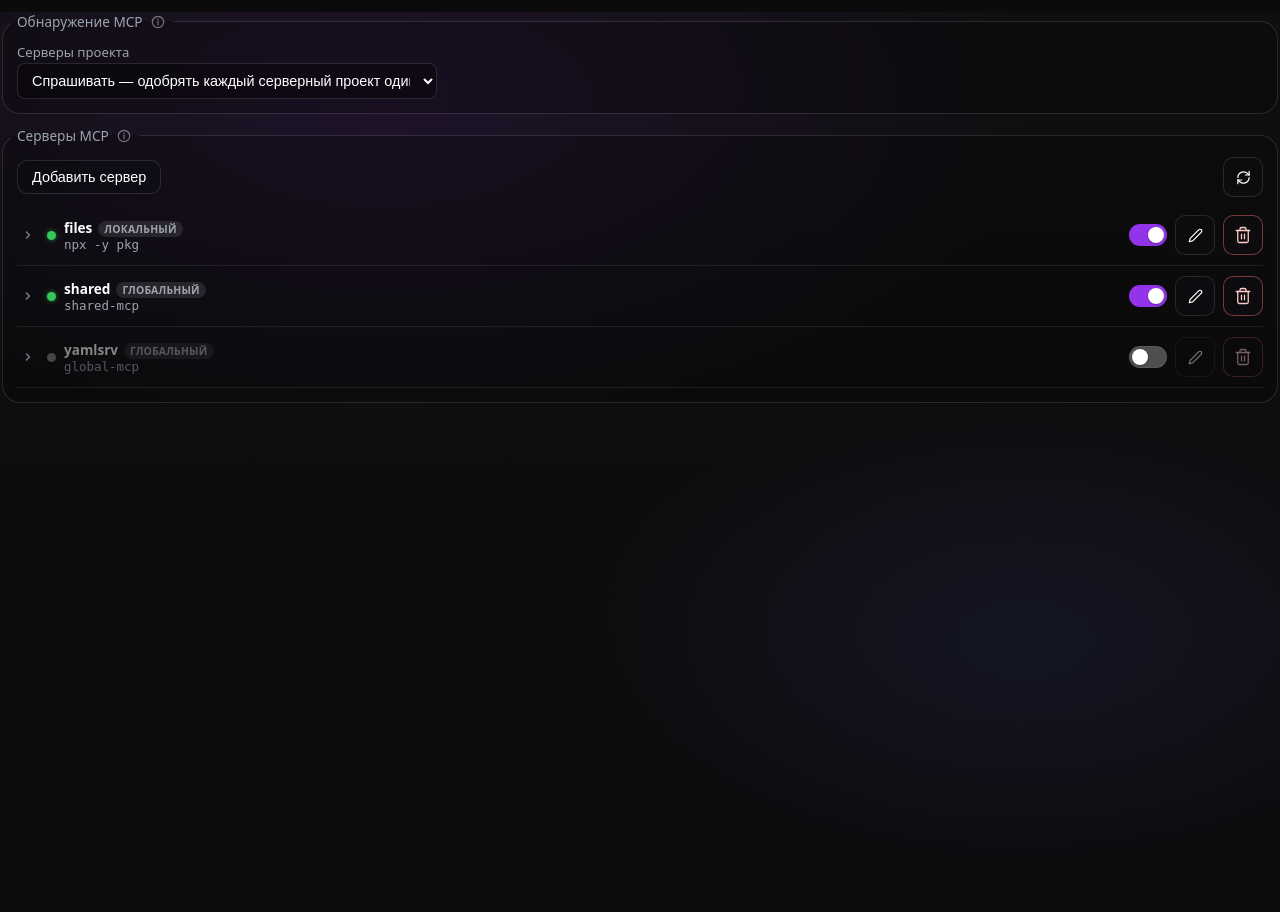
Test: renders MCP controls and validation errors in Russian
The width and height of the screenshot is (1280, 912).
Expected: the list with test id "mcp-list" is shown, [17,205,1263,388]
Expected: the text "Серверы MCP" is shown, [17,126,133,145]
Click the button with test id "mcp-add-server". click: (89, 177)
box: [17,160,161,194]
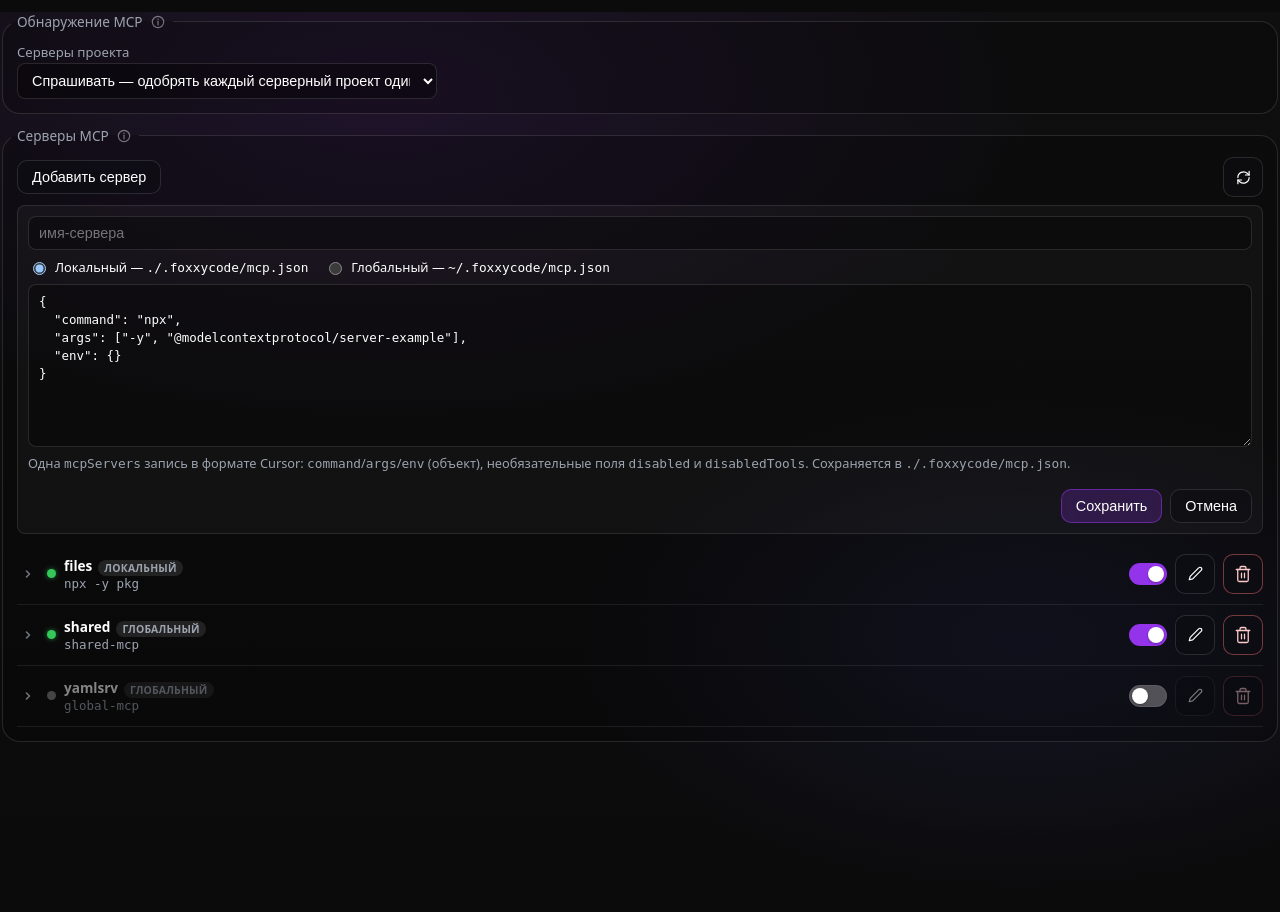
Type "bad__name" into the field with test id "mcp-editor-name". click: (640, 233)
box: [28,216,1252,250]
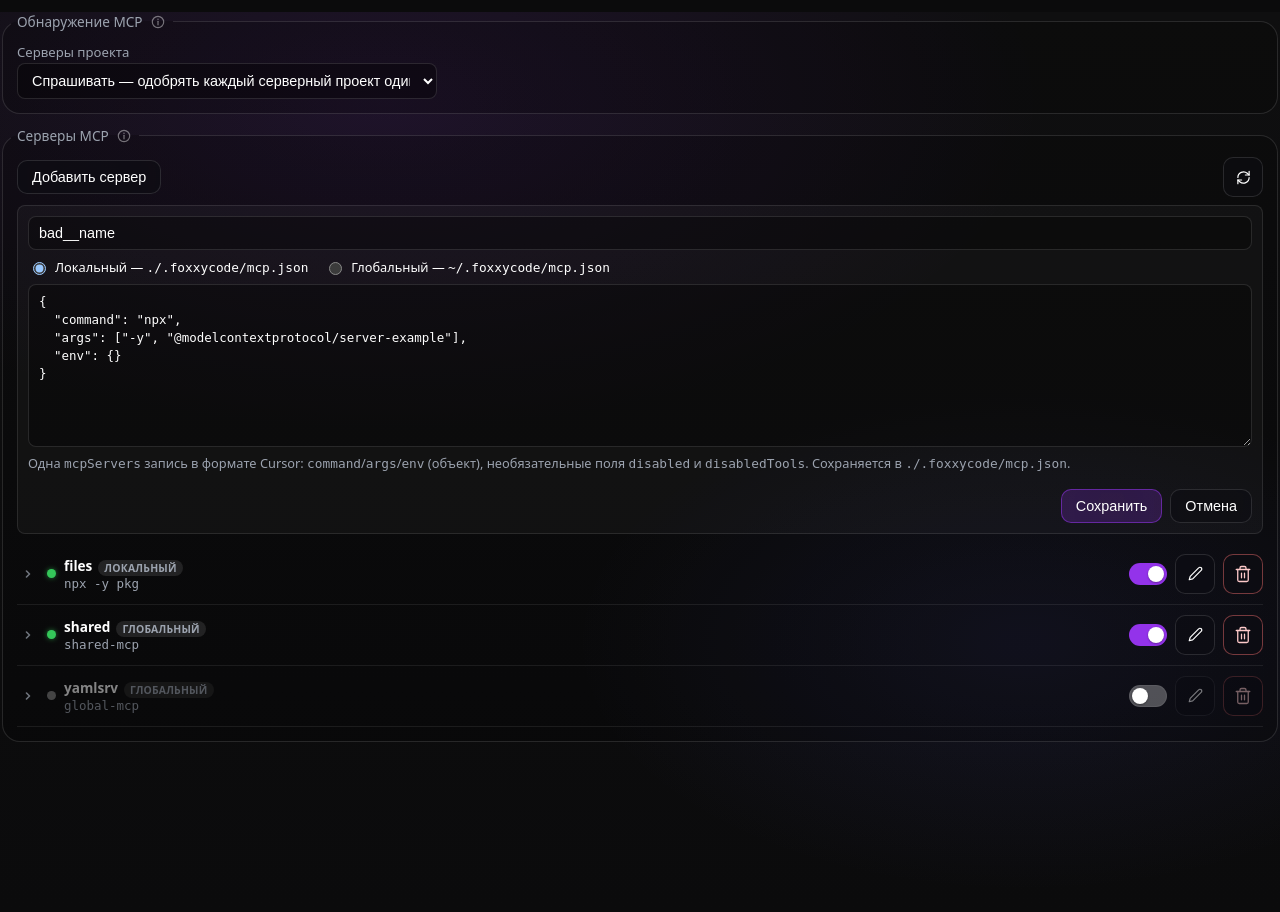
Click the button with test id "mcp-editor-save". click: (1112, 506)
box: [1061,488,1162,522]
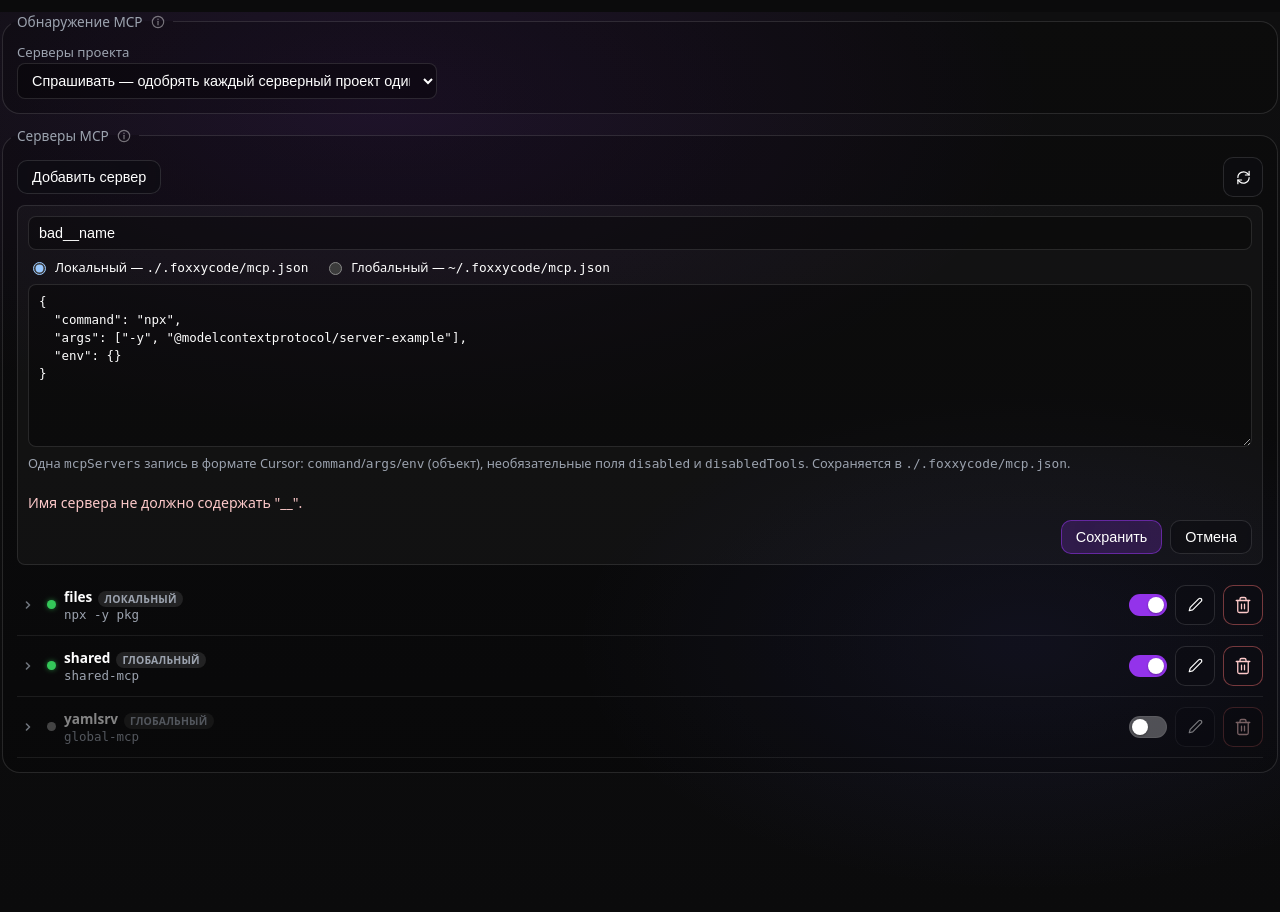
Expected: the text with class "settings-error" shows "не должно содержать", [28,492,302,512]
